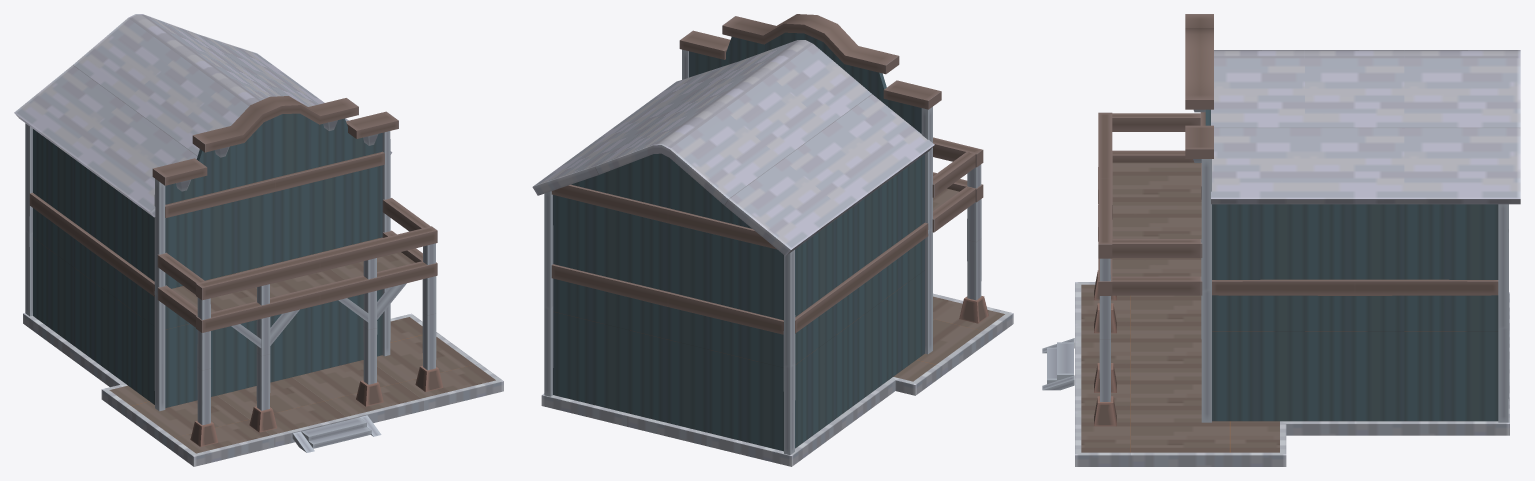
Rendered from house_v3_blank_ncl1_3.fbx.
3 views of the same model, side by side, from view 1: azimuth 30°, elevation 25°; view 2: azimuth 150°, elevation 25°; view 3: azimuth 270°, elevation 25° (orthographic). The views are drawn at different scales.
Visible parts, largest first — view 1: house_v3_blank; view 2: house_v3_blank; view 3: house_v3_blank.
Boxes of the visible parts, box(x1,y1,x2,y2) form: house_v3_blank: box(14, 14, 503, 466); house_v3_blank: box(532, 14, 1013, 466); house_v3_blank: box(1042, 14, 1520, 466).
Bounding box in the file's own units: 826 × 745 × 964.
